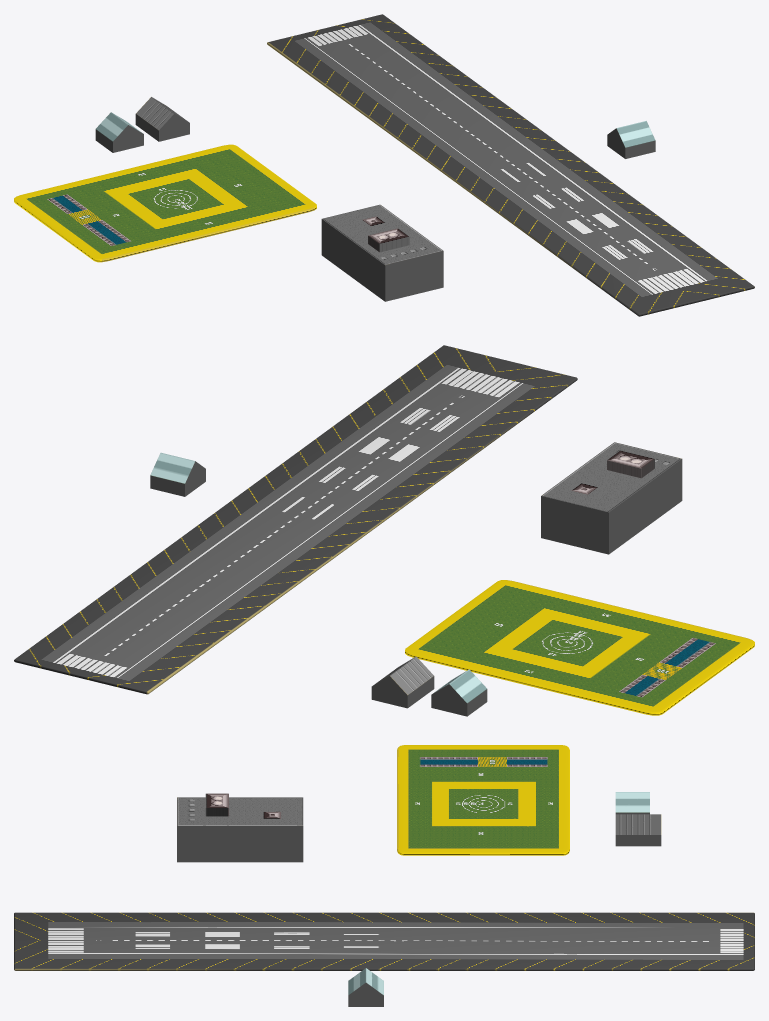
The model's file is Map1.glb.
3 renders of one model, top to bottom at view 1: azimuth 30°, elevation 25°; view 2: azimuth 150°, elevation 25°; view 3: azimuth 270°, elevation 25°, orthographic. The views are drawn at different scales.
Visible parts, largest first — view 1: LandingStrip, SkydivingLanding, Building3, Building1, Building2, Building4; view 2: LandingStrip, SkydivingLanding, Building3, Building1, Building2, Building4; view 3: LandingStrip, SkydivingLanding, Building3, Building1, Building2, Building4.
Boxes of the visible parts, left/top/right/bottom form: LandingStrip: left=267, top=14, right=754, bottom=316; SkydivingLanding: left=14, top=144, right=316, bottom=262; Building3: left=321, top=204, right=443, bottom=301; Building1: left=135, top=97, right=189, bottom=141; Building2: left=607, top=121, right=655, bottom=158; Building4: left=95, top=112, right=143, bottom=152; LandingStrip: left=14, top=345, right=577, bottom=694; SkydivingLanding: left=405, top=580, right=754, bottom=715; Building3: left=541, top=442, right=682, bottom=554; Building1: left=371, top=656, right=434, bottom=708; Building2: left=150, top=452, right=205, bottom=496; Building4: left=431, top=669, right=487, bottom=716; LandingStrip: left=14, top=912, right=754, bottom=970; SkydivingLanding: left=397, top=745, right=569, bottom=855; Building3: left=177, top=793, right=303, bottom=862; Building1: left=615, top=814, right=661, bottom=846; Building2: left=348, top=968, right=383, bottom=1006; Building4: left=615, top=792, right=649, bottom=814.
Bounding box in the file's own units: 231 × 18.6 × 280.
1 material, 1 textured.
